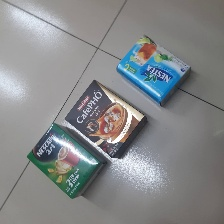CF pho: (64, 80, 148, 158)
Nes Rang: (26, 123, 106, 198)
Nestea: (115, 34, 192, 108)
